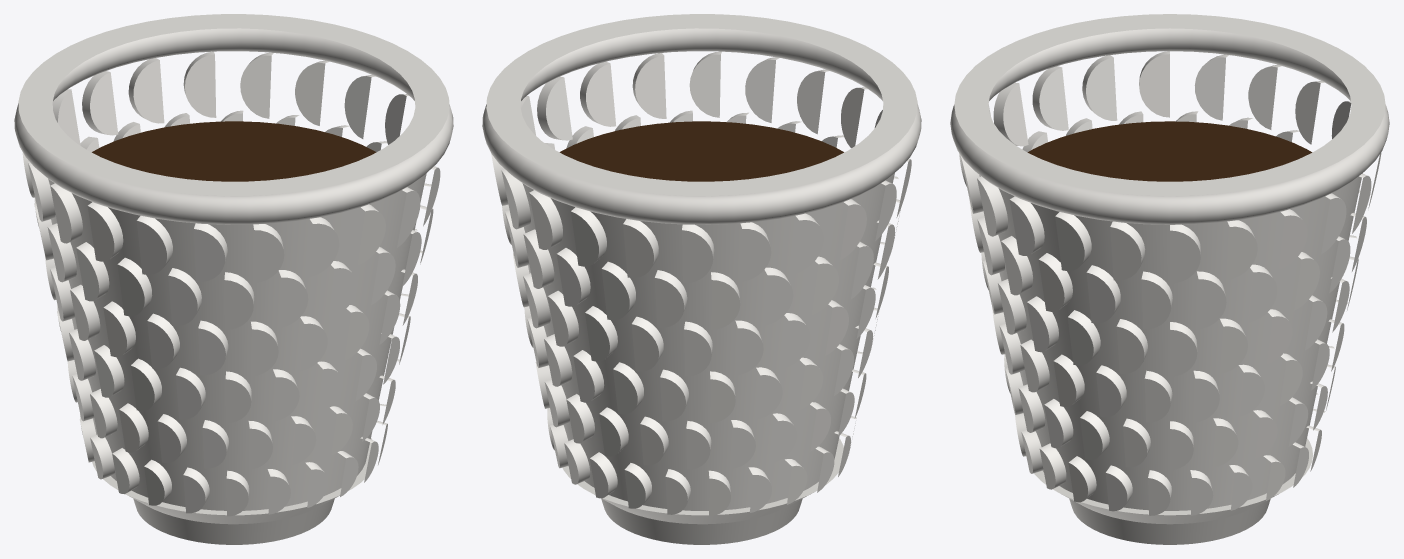
The picture shows the model from 3 angles, left to right: view 1: azimuth 30°, elevation 25°; view 2: azimuth 150°, elevation 25°; view 3: azimuth 270°, elevation 25°; orthographic projection.
Parts seen in each view (by area): view 1: shell, rim-roll, rim-top, soil, foot-pad, plinth, scale-5-11, scale-5-10, scale-5-12, scale-5-3, scale-5-2, scale-5-13 (+51 smaller); view 2: shell, rim-roll, rim-top, soil, foot-pad, plinth, scale-5-18, scale-5-19, scale-5-17, scale-5-10, scale-5-20, scale-5-9 (+52 smaller); view 3: shell, rim-roll, rim-top, soil, foot-pad, plinth, scale-5-3, scale-5-4, scale-5-5, scale-5-17, scale-5-18, scale-5-2 (+52 smaller).
Boxes of the visible parts, x1=… form: shell: x1=48, y1=173, x2=426, y2=510; rim-roll: x1=14, y1=28, x2=453, y2=224; rim-top: x1=18, y1=14, x2=449, y2=196; soil: x1=92, y1=121, x2=376, y2=181; foot-pad: x1=133, y1=498, x2=334, y2=544; plinth: x1=92, y1=438, x2=372, y2=524; scale-5-11: x1=128, y1=58, x2=164, y2=123; scale-5-10: x1=82, y1=71, x2=118, y2=135; scale-5-12: x1=183, y1=51, x2=216, y2=117; scale-5-3: x1=136, y1=216, x2=172, y2=274; scale-5-2: x1=194, y1=223, x2=227, y2=282; scale-5-13: x1=240, y1=52, x2=273, y2=118; shell: x1=522, y1=173, x2=894, y2=510; rim-roll: x1=482, y1=28, x2=921, y2=224; rim-top: x1=486, y1=14, x2=917, y2=196; soil: x1=559, y1=121, x2=843, y2=181; foot-pad: x1=601, y1=498, x2=802, y2=544; plinth: x1=562, y1=438, x2=843, y2=524; scale-5-18: x1=580, y1=61, x2=615, y2=126; scale-5-19: x1=632, y1=53, x2=666, y2=118; scale-5-17: x1=537, y1=76, x2=572, y2=140; scale-5-10: x1=623, y1=219, x2=658, y2=277; scale-5-20: x1=689, y1=51, x2=721, y2=117; scale-5-9: x1=681, y1=224, x2=714, y2=283; shell: x1=979, y1=173, x2=1362, y2=510; rim-roll: x1=950, y1=28, x2=1389, y2=224; rim-top: x1=954, y1=14, x2=1385, y2=196; soil: x1=1027, y1=121, x2=1312, y2=181; foot-pad: x1=1069, y1=499, x2=1270, y2=544; plinth: x1=1034, y1=438, x2=1312, y2=524; scale-5-3: x1=1032, y1=66, x2=1068, y2=130; scale-5-4: x1=1082, y1=55, x2=1117, y2=120; scale-5-5: x1=1139, y1=51, x2=1169, y2=117; scale-5-17: x1=1110, y1=221, x2=1145, y2=280; scale-5-18: x1=1055, y1=212, x2=1091, y2=271; scale-5-2: x1=993, y1=82, x2=1028, y2=146.
Bounding box in the file's own units: 0.41 × 0.41 × 0.41.
